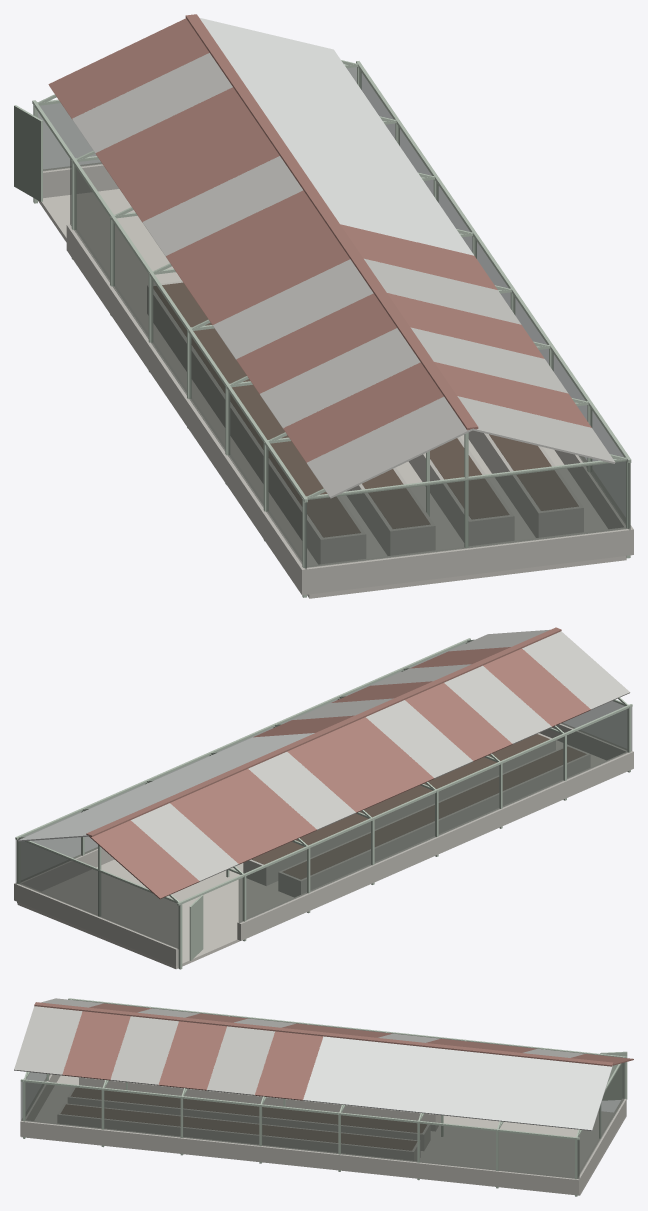
File: rares_vermicomposting.glb
3 renders of one model, top to bottom at view 1: azimuth 30°, elevation 25°; view 2: azimuth 150°, elevation 25°; view 3: azimuth 270°, elevation 25°, orthographic. The views are drawn at different scales.
Visible parts, largest first — view 1: Vermi_Mesh_South, Vermi_Mesh_West, Vermi_FloorSlab, Vermi_Knee_South, Vermi_Knee_West, Vermi_Compost_3, Vermi_Roof_W_11, Vermi_Bed_3, Vermi_Roof_W_8, Vermi_Roof_W_0, Vermi_Roof_W_6, Vermi_Roof_W_5 (+34 smaller); view 2: Vermi_Mesh_West, Vermi_FloorSlab, Vermi_Knee_West, Vermi_Mesh_North, Vermi_Bed_3, Vermi_Compost_3, Vermi_Roof_W_0, Vermi_Roof_W_11, Vermi_Roof_W_10, Vermi_Roof_W_5, Vermi_Roof_W_3, Vermi_Roof_W_8 (+29 smaller); view 3: Vermi_Mesh_East, Vermi_Knee_East, Vermi_FloorSlab, Vermi_Bed_0, Vermi_Compost_0, Vermi_Roof_E_0, Vermi_Roof_E_11, Vermi_Roof_E_2, Vermi_Compost_1, Vermi_Roof_E_6, Vermi_Roof_E_8, Vermi_Roof_E_5 (+28 smaller).
Boxes of the visible parts, bbox=[...] form: Vermi_Mesh_South: bbox=[305, 460, 628, 567]; Vermi_Mesh_West: bbox=[70, 159, 306, 569]; Vermi_FloorSlab: bbox=[38, 189, 626, 598]; Vermi_Knee_South: bbox=[308, 527, 626, 594]; Vermi_Knee_West: bbox=[66, 224, 309, 595]; Vermi_Compost_3: bbox=[153, 282, 360, 537]; Vermi_Roof_W_11: bbox=[307, 396, 472, 498]; Vermi_Bed_3: bbox=[147, 281, 365, 564]; Vermi_Roof_W_8: bbox=[236, 293, 396, 394]; Vermi_Roof_W_0: bbox=[48, 18, 209, 119]; Vermi_Roof_W_6: bbox=[189, 224, 349, 325]; Vermi_Roof_W_5: bbox=[166, 190, 326, 290]; Vermi_Mesh_West: bbox=[238, 707, 632, 922]; Vermi_FloorSlab: bbox=[17, 733, 605, 969]; Vermi_Knee_West: bbox=[237, 751, 633, 940]; Vermi_Mesh_North: bbox=[17, 838, 179, 949]; Vermi_Bed_3: bbox=[278, 745, 590, 897]; Vermi_Compost_3: bbox=[283, 746, 586, 879]; Vermi_Roof_W_0: bbox=[89, 820, 199, 899]; Vermi_Roof_W_11: bbox=[522, 631, 630, 709]; Vermi_Roof_W_10: bbox=[483, 648, 590, 727]; Vermi_Roof_W_5: bbox=[287, 734, 395, 813]; Vermi_Roof_W_3: bbox=[209, 769, 316, 847]; Vermi_Roof_W_8: bbox=[405, 683, 512, 761]; Vermi_Mesh_East: bbox=[20, 1082, 579, 1179]; Vermi_Knee_East: bbox=[20, 1120, 579, 1194]; Vermi_FloorSlab: bbox=[21, 1075, 626, 1195]; Vermi_Bed_0: bbox=[57, 1103, 420, 1160]; Vermi_Compost_0: bbox=[60, 1104, 416, 1150]; Vermi_Roof_E_0: bbox=[543, 1061, 612, 1130]; Vermi_Roof_E_11: bbox=[14, 1006, 82, 1075]; Vermi_Roof_E_2: bbox=[447, 1051, 515, 1120]; Vermi_Compost_1: bbox=[71, 1088, 426, 1132]; Vermi_Roof_E_6: bbox=[255, 1031, 323, 1100]; Vermi_Roof_E_8: bbox=[158, 1021, 226, 1090]; Vermi_Roof_E_5: bbox=[303, 1036, 371, 1105].
Size of the model in its own units: 11.85 by 3.63 by 21.94.
